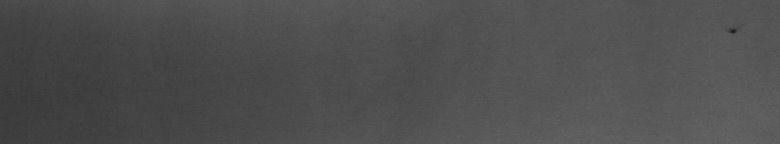fi: (725, 20, 739, 40)
